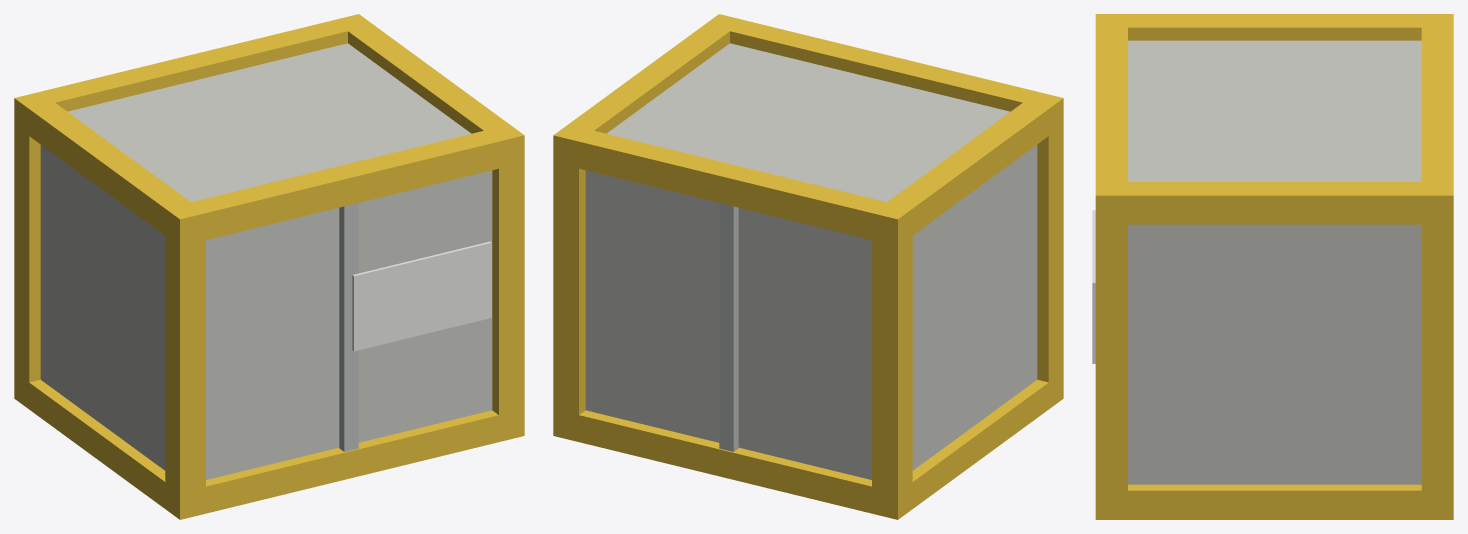
File: kit_crate_m.glb
The picture shows the model from 3 angles, left to right: view 1: azimuth 30°, elevation 25°; view 2: azimuth 150°, elevation 25°; view 3: azimuth 270°, elevation 25°; orthographic projection. The views are drawn at different scales.
Parts seen in each view (by area): view 1: body.002, frame.001, label.002, ribs.001; view 2: body.002, frame.001, ribs.001; view 3: body.002, frame.001, label.002.
Boxes of the visible parts, x1,y1,x2,y2 form: body.002: (40,43,492,479); frame.001: (14,14,524,519); label.002: (352,241,491,351); ribs.001: (339,203,358,451); body.002: (585,43,1037,479); frame.001: (553,14,1063,519); ribs.001: (719,203,738,451); body.002: (1128,40,1421,484); frame.001: (1095,14,1453,519); label.002: (1092,210,1095,363).
Bounding box in the file's own units: 1.2 × 1 × 1.01.
